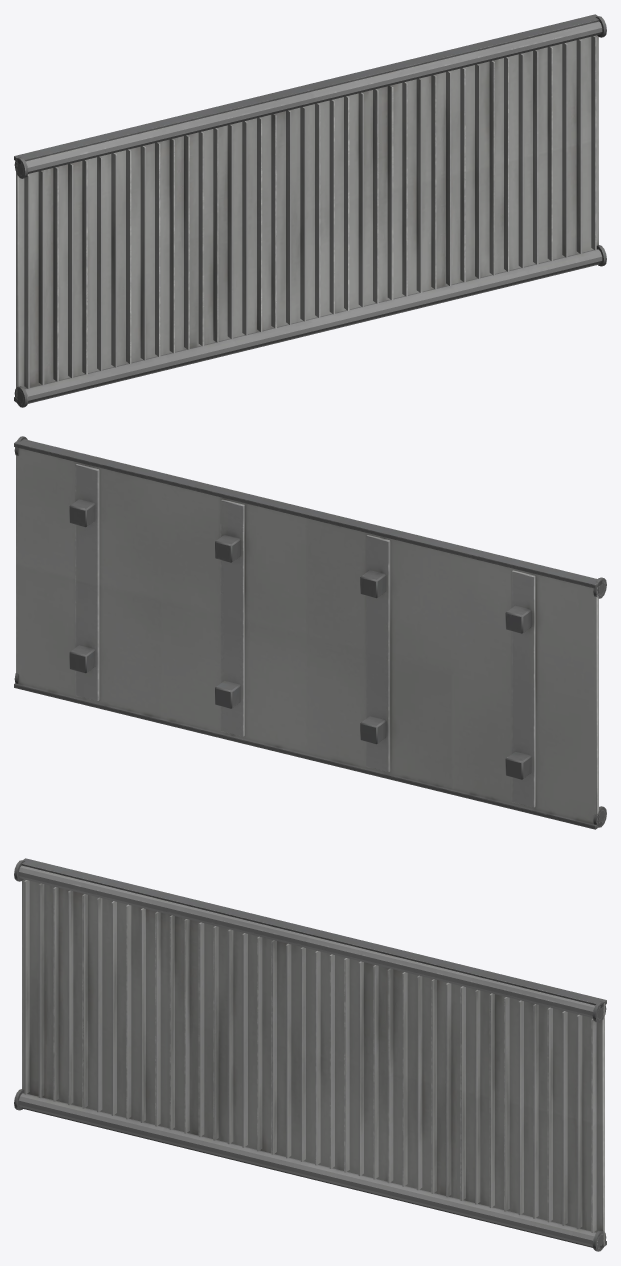
The model's file is radiator.glb.
The picture shows the model from 3 angles, top to bottom: view 1: azimuth 30°, elevation 25°; view 2: azimuth 150°, elevation 25°; view 3: azimuth 330°, elevation 25°; orthographic projection.
Parts seen in each view (by area): view 1: radiator; view 2: radiator; view 3: radiator.
Part boxes in pixels (<box>): radiator: <box>14,14,606,407</box>; radiator: <box>14,436,606,829</box>; radiator: <box>14,858,606,1251</box>.
Bounding box in the file's own units: 10 × 4.08 × 0.6104.
1 material, 1 textured.
